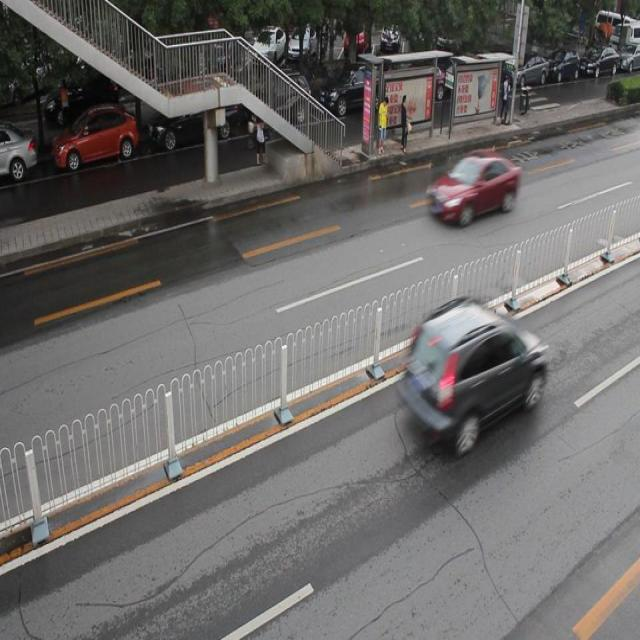car: (394, 298, 548, 458), (424, 154, 519, 226), (148, 94, 240, 149), (54, 110, 138, 168), (317, 65, 390, 120), (246, 74, 313, 133), (1, 124, 37, 181)
